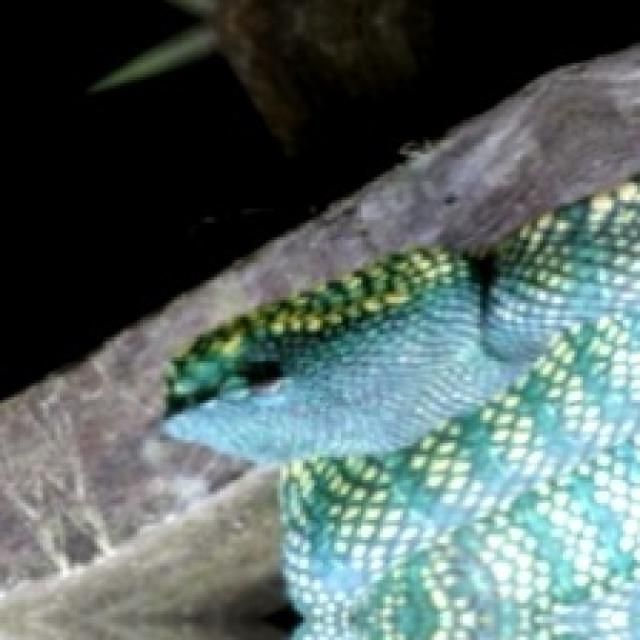north ph temple pitviper: (168, 179, 640, 640)
